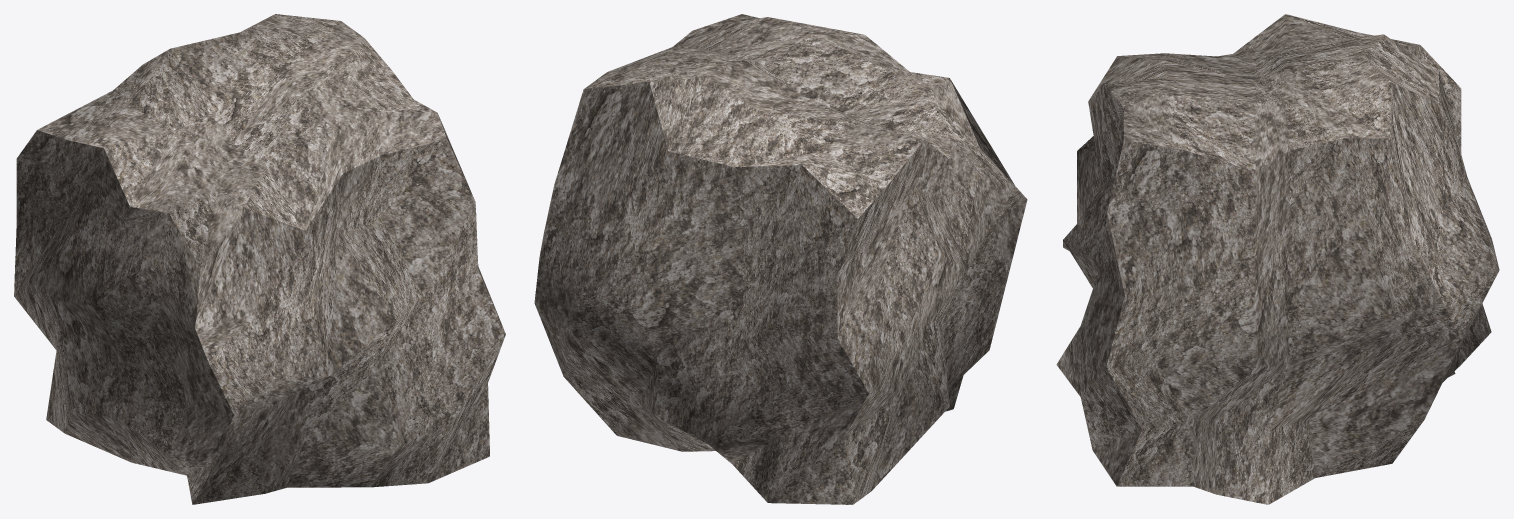
File: stone.FBX
3 views of the same model, side by side, from view 1: azimuth 30°, elevation 25°; view 2: azimuth 150°, elevation 25°; view 3: azimuth 270°, elevation 25° (orthographic).
Visible parts, largest first — view 1: Box001; view 2: Box001; view 3: Box001.
Boxes of the visible parts, x1,y1,x2,y2 form: Box001: (14, 14, 505, 504); Box001: (534, 14, 1027, 504); Box001: (1056, 14, 1499, 504).
Bounding box in the file's own units: 28.14 × 26.81 × 29.12.
